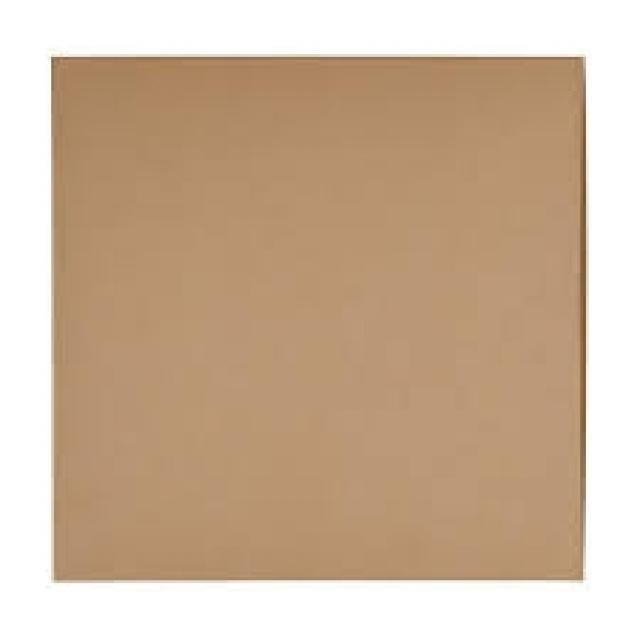cardboard paper: (52, 57, 582, 578)
